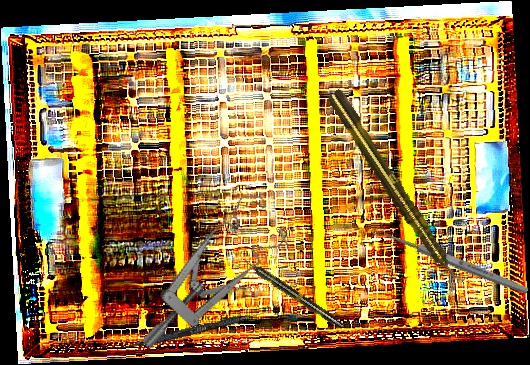Handpiece: (324, 86, 467, 291), (240, 255, 346, 331)
Spatula Surgical: (116, 303, 281, 356)
Speculum: (103, 185, 310, 352)
Surgical Spoon: (371, 223, 530, 297)
